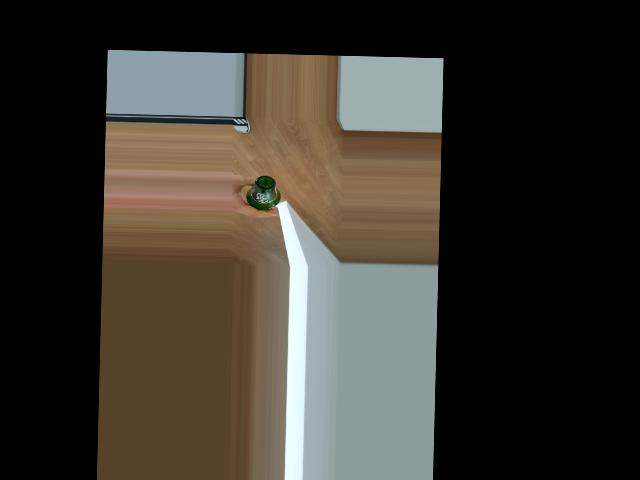beer: (245, 175, 281, 210)
